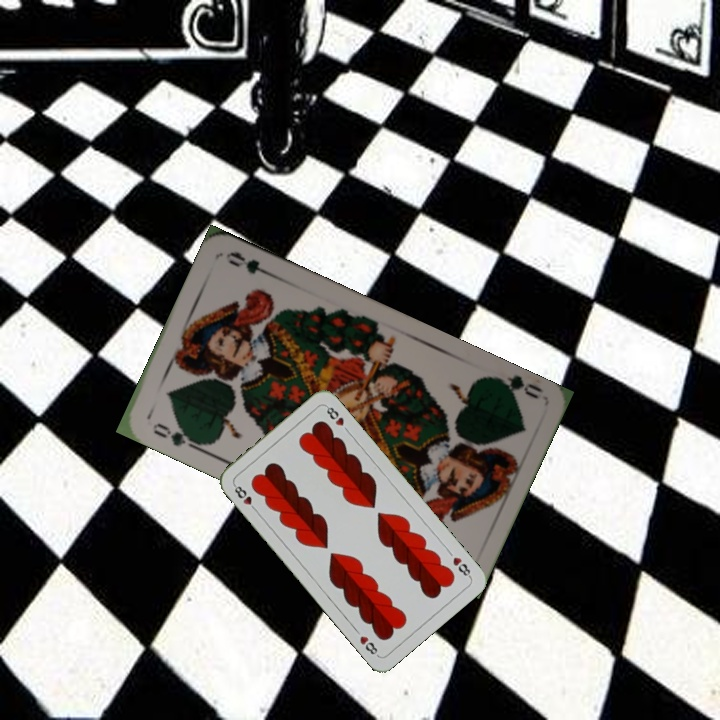GO: (487, 372, 545, 404), (148, 418, 202, 452)
H8: (230, 480, 260, 514), (449, 553, 474, 580)
